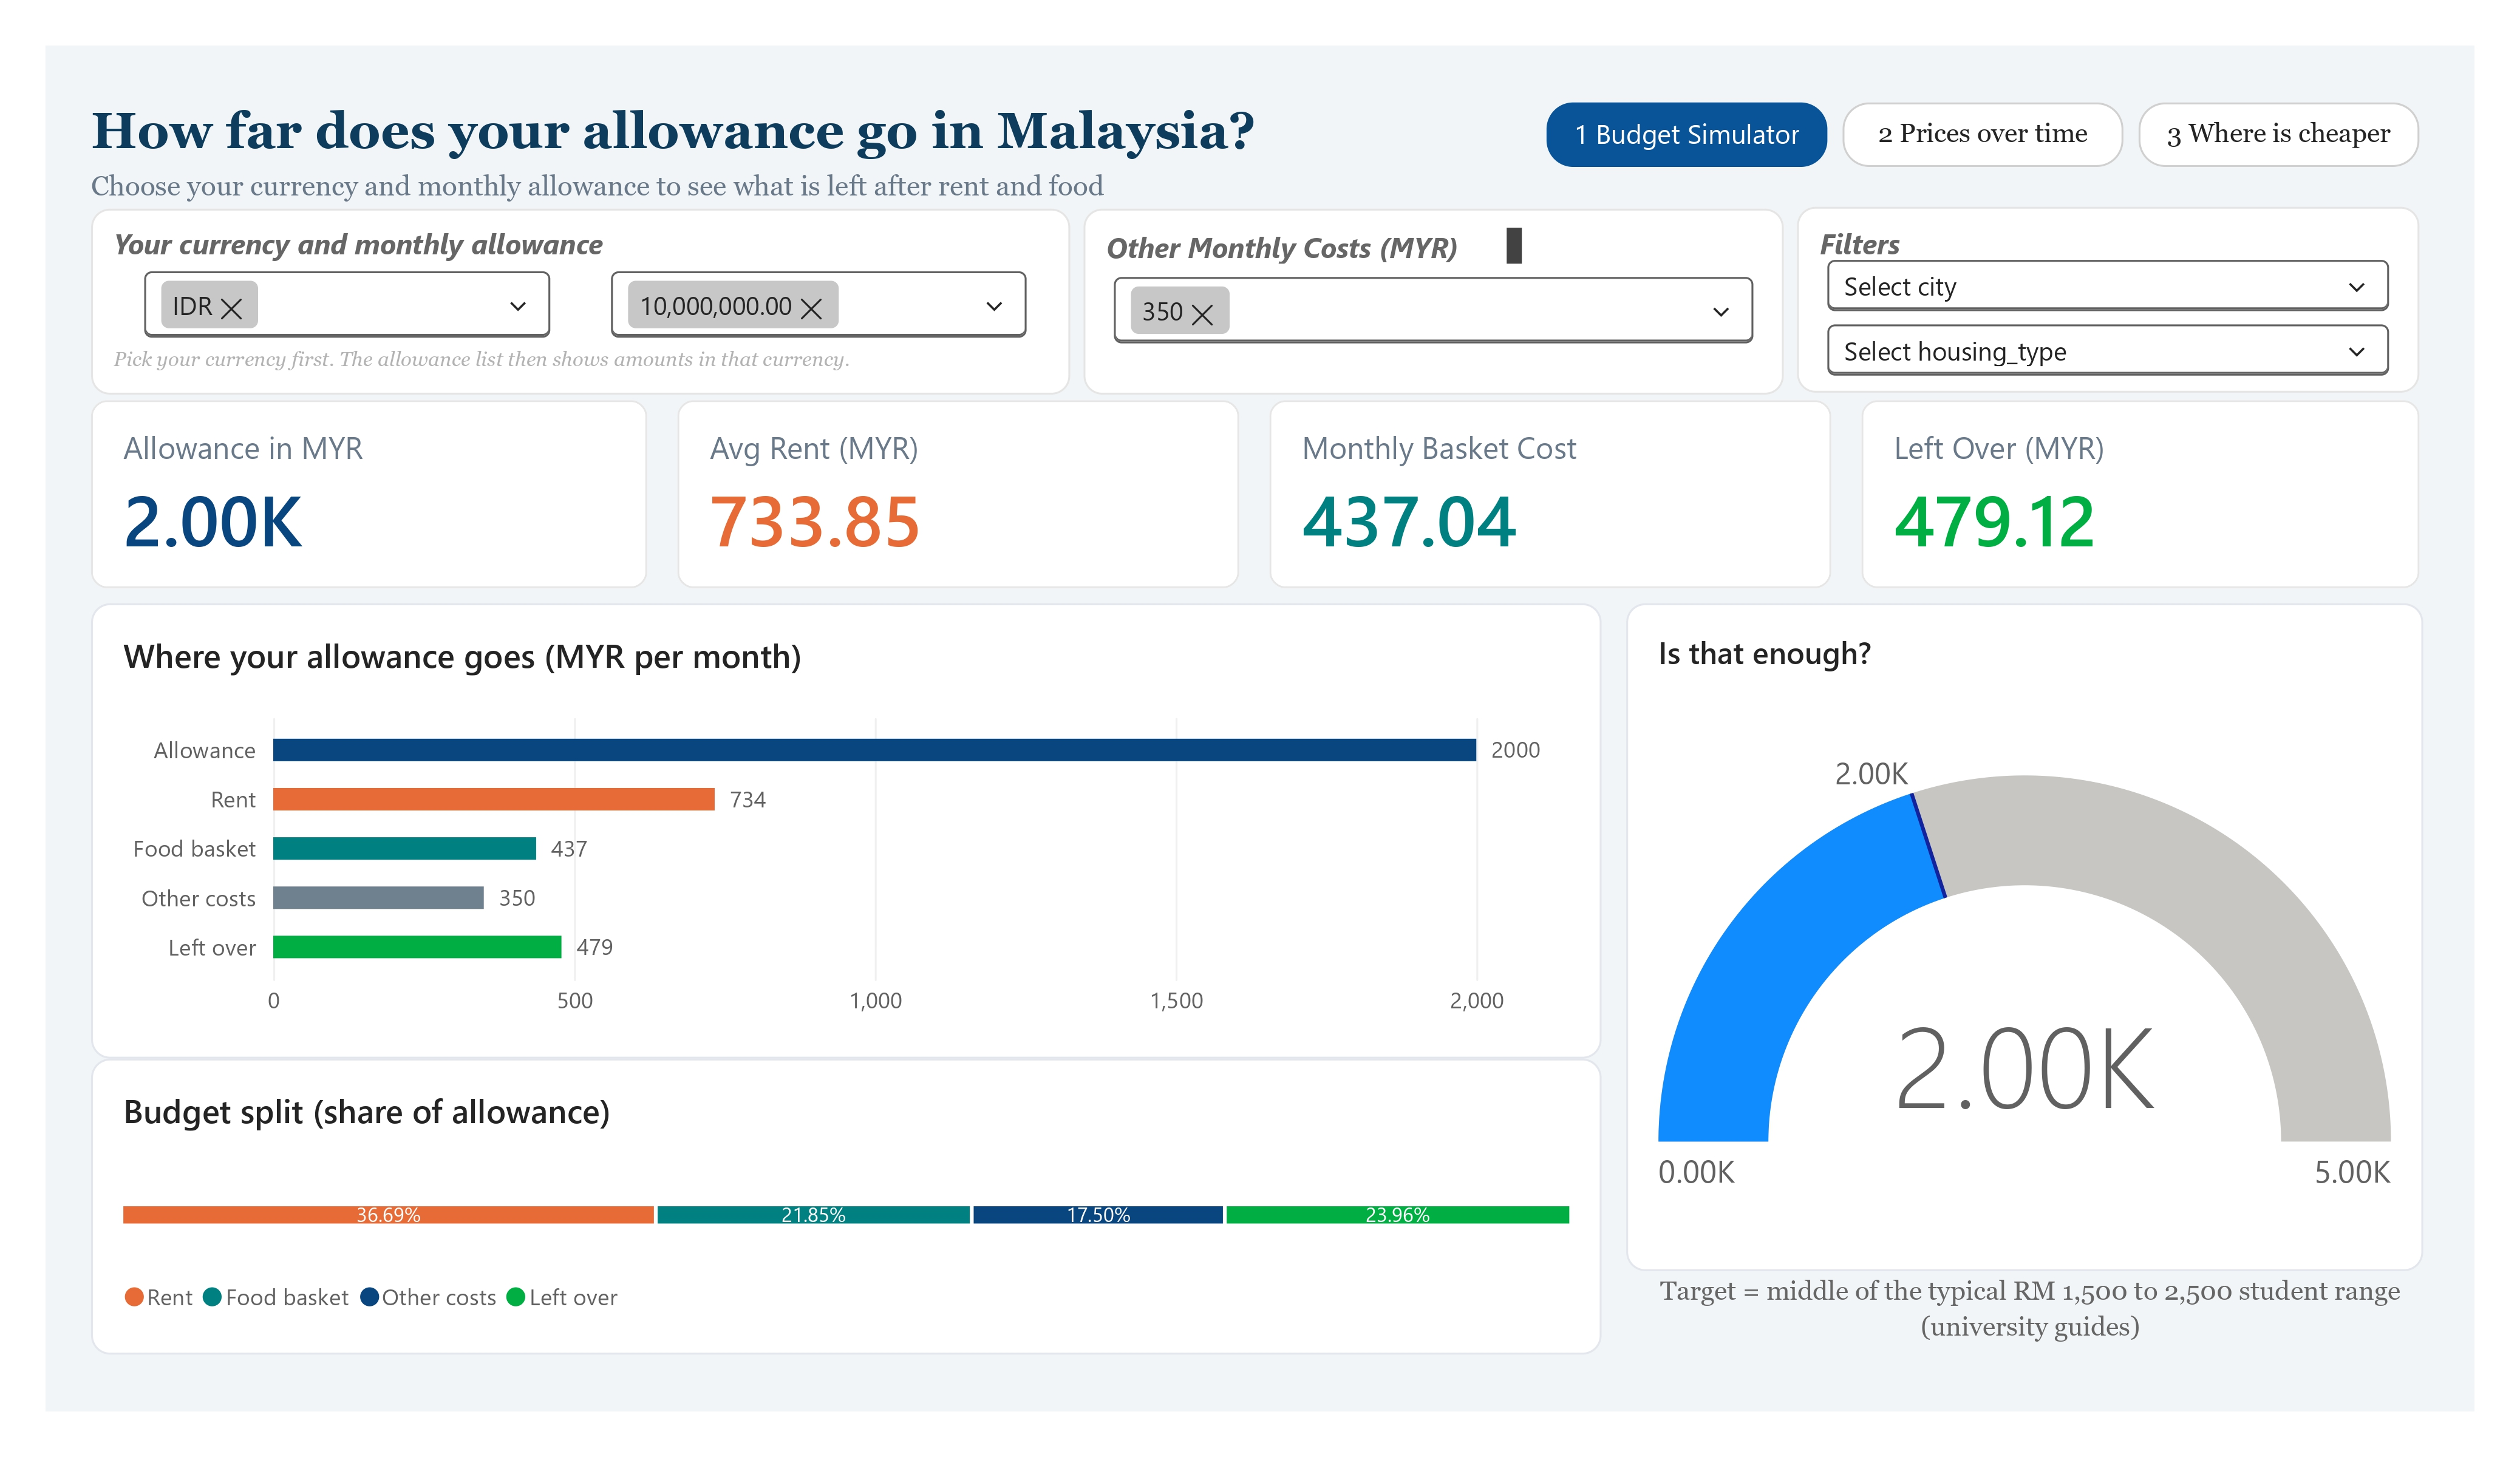

The dashboard page shown, as its layout file describes it:
{"tool":"powerbi","page":{"name":"1 Budget Simulator","canvas":[1280,720],"ordinal":0},"visuals":[{"type":"textbox","box":[24,30.2,800,36],"z":0},{"type":"textbox","box":[559.1,96.1,218.9,18.9],"z":0,"group":"g3"},{"type":"shape","box":[923,85,328,98],"z":1000},{"type":"textbox","box":[24,64.2,800,22],"z":2000},{"type":"textbox","box":[935.5,94.3,219.1,20.6],"z":3000},{"type":"pageNavigator","box":[791,30,460,34],"z":4000},{"type":"cardVisual","fields":{"Data":["Measures\\.Allowance in MYR"]},"box":[24.4,186.7,292.2,98.9],"z":5000},{"type":"cardVisual","fields":{"Data":["Measures\\.Avg Rent (MYR)"]},"box":[333,187,296,99],"z":6000},{"type":"cardVisual","fields":{"Data":["Measures\\.Monthly Basket Cost"]},"box":[645,187,296,99],"z":7000},{"type":"cardVisual","fields":{"Data":["Measures\\.Left Over (MYR)"]},"box":[956.7,186.7,294.4,98.9],"z":8000},{"type":"clusteredBarChart","title":"Where your allowance goes (MYR per month)","fields":{"Category":["Budget Items.Item"],"Y":["Budget Items.Budget Value"]},"box":[24,294,796,240],"z":9000},{"type":"hundredPercentStackedBarChart","title":"Budget split (share of allowance)","fields":{"Series":["Budget Items.Item"],"Y":["Budget Items.Budget Value"]},"box":[24,534,796,156],"z":10000},{"type":"shape","box":[547,86,369,98],"z":11000,"group":"g2"},{"type":"gauge","title":"Is that enough?","fields":{"Y":["Measures\\.Allowance in MYR"]},"box":[833,294,420,352],"z":11000},{"type":"textbox","box":[848,646,396,44],"z":12000},{"type":"group","id":"g1","title":"Group 1","box":[24,86,516,98],"z":13000},{"type":"group","id":"g2","title":"Group 4","box":[547,86,369,98],"z":14000},{"type":"group","id":"g3","title":"Group 3","box":[559.1,96.1,218.9,18.9],"z":14000,"group":"g2"},{"type":"shape","box":[24,86,516,98],"z":15000,"group":"g1"},{"type":"listSlicer","fields":{"Values":["Rent.housing_type"]},"box":[922.9,132.9,327.7,50.3],"z":15000},{"type":"listSlicer","fields":{"Values":["Rent.city"]},"box":[922.9,98.8,327.7,47.6],"z":16000},{"type":"listSlicer","title":"Allowance","fields":{"Values":["AllowanceOptions.Amount"]},"box":[282,105,251,56],"z":16000,"group":"g1"},{"type":"textbox","box":[36,94,312,24],"z":17000,"group":"g1"},{"type":"listSlicer","title":"Allowance","fields":{"Values":["Other Monthly Costs (MYR).Other Monthly Costs (MYR)"]},"box":[546.7,107.8,368.9,55.6],"z":17000},{"type":"listSlicer","fields":{"Values":["CurrencyDim.currency"]},"box":[36,105,246,63],"z":18000,"group":"g1"},{"type":"textbox","box":[36,154,488,20],"z":19000,"group":"g1"}]}

Visuals, with their boxes on the page's 1280x720 design canvas (x1, y1, x2, y2). These are canvas units, not pixel positions in the 2520x1457 screenshot, which may show the page scaled, cropped or inside an application window:
textbox: (24,30,824,66)
textbox: (559,96,778,115)
shape: (923,85,1251,183)
textbox: (24,64,824,86)
textbox: (936,94,1155,115)
pageNavigator: (791,30,1251,64)
cardVisual - Measures\.Allowance in MYR: (24,187,317,286)
cardVisual - Measures\.Avg Rent (MYR): (333,187,629,286)
cardVisual - Measures\.Monthly Basket Cost: (645,187,941,286)
cardVisual - Measures\.Left Over (MYR): (957,187,1251,286)
"Where your allowance goes (MYR per month)" clusteredBarChart: (24,294,820,534)
"Budget split (share of allowance)" hundredPercentStackedBarChart: (24,534,820,690)
shape: (547,86,916,184)
"Is that enough?" gauge: (833,294,1253,646)
textbox: (848,646,1244,690)
"Group 1" group: (24,86,540,184)
"Group 4" group: (547,86,916,184)
"Group 3" group: (559,96,778,115)
shape: (24,86,540,184)
listSlicer - Rent.housing_type: (923,133,1251,183)
listSlicer - Rent.city: (923,99,1251,146)
"Allowance" listSlicer: (282,105,533,161)
textbox: (36,94,348,118)
"Allowance" listSlicer: (547,108,916,163)
listSlicer - CurrencyDim.currency: (36,105,282,168)
textbox: (36,154,524,174)
